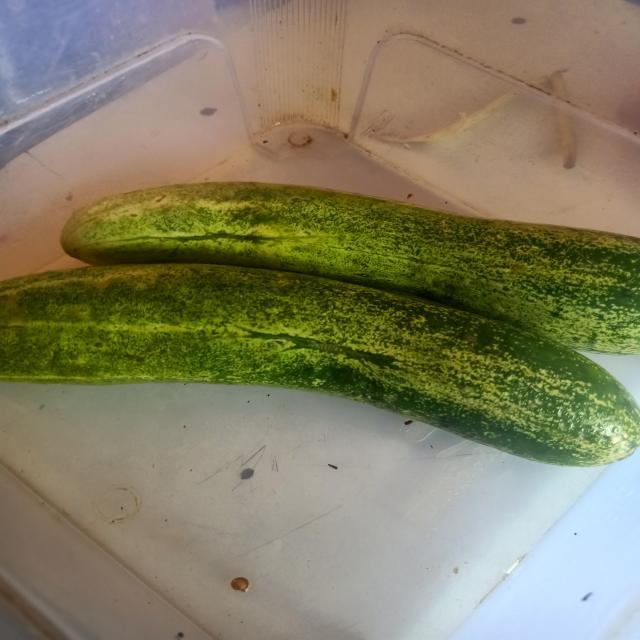Cucumber: (0, 264, 640, 467), (60, 181, 640, 354)
